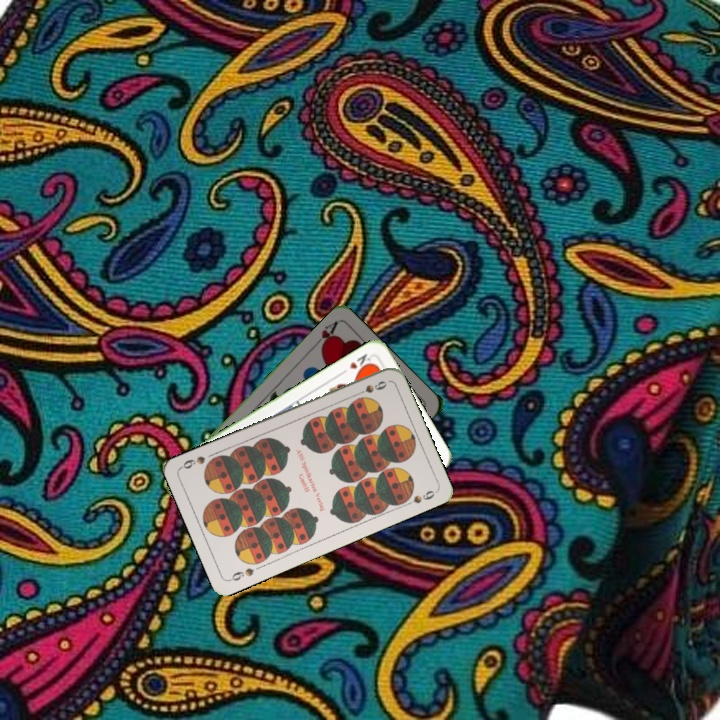HA: (309, 317, 341, 352)
HK: (346, 349, 375, 375)
S9: (351, 377, 390, 399), (225, 564, 257, 584)
